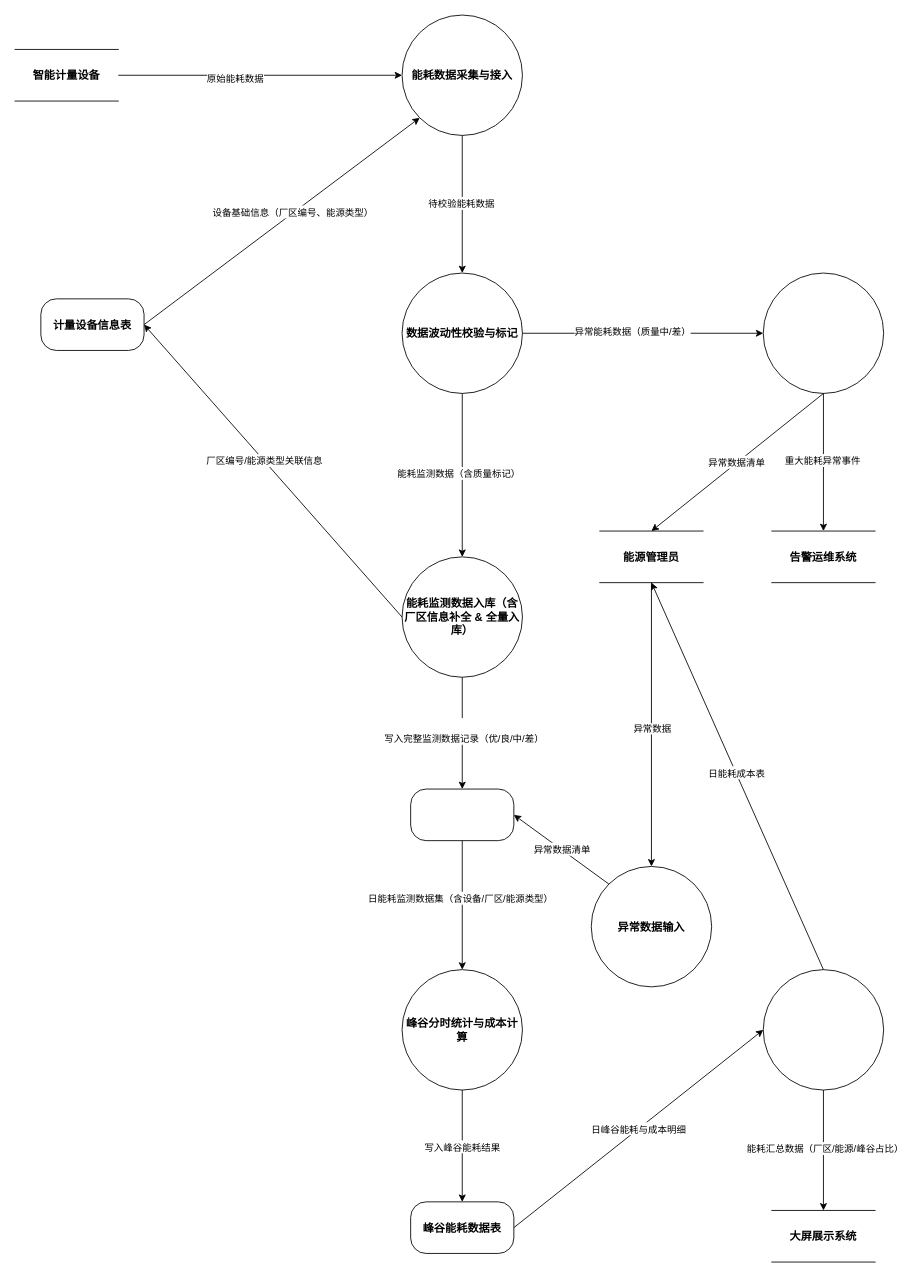
The diagram is 918 pixels wide and 1277 high, and some of its shapes have lost their labels. Each missing label, with the centre of its shape:
"异常能耗识别与推送" goes at point 823,332.
"日能耗报表生成与高耗能区域识别" goes at point 823,1029.
"能耗监测数据表" goes at point 462,814.
